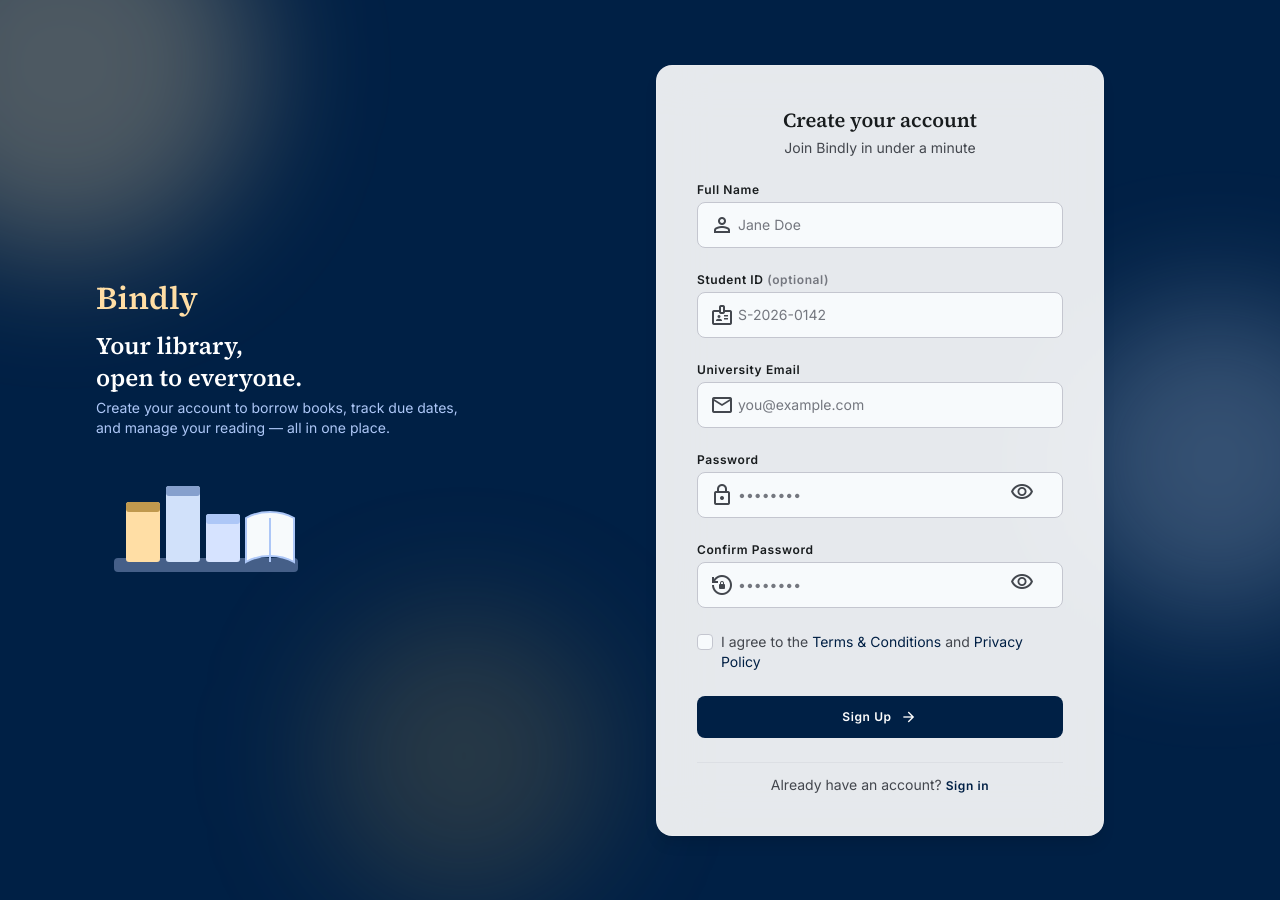
Scenario: Register - validation errors › flags mismatched passwords once the confirm field is touched
Type "Password1!" into the password field labelled "Password". click: (880, 494)
box: [698,472,1062,516]
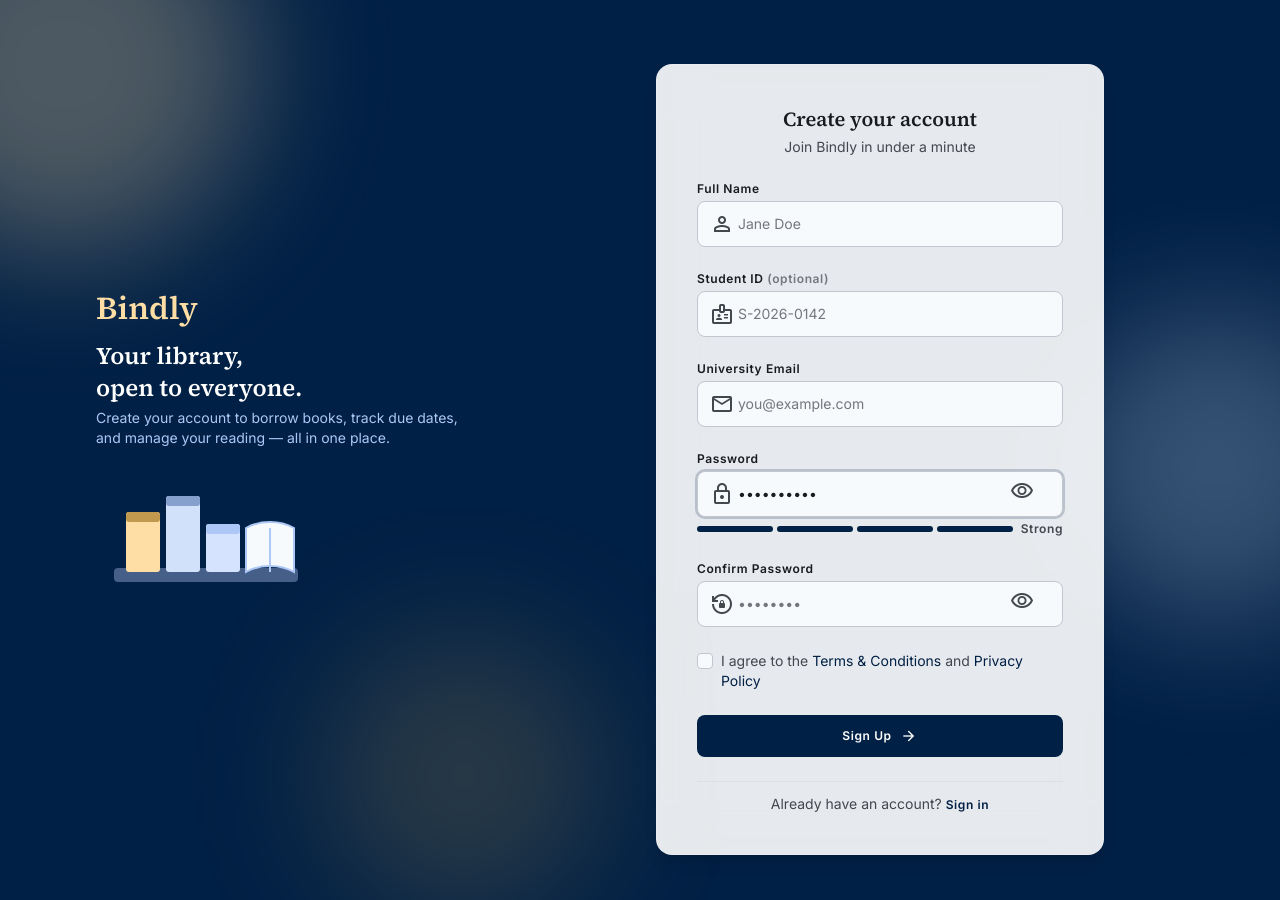
Type "Different1!" into the password field labelled "Confirm Password". click: (880, 604)
box: [698,582,1062,626]
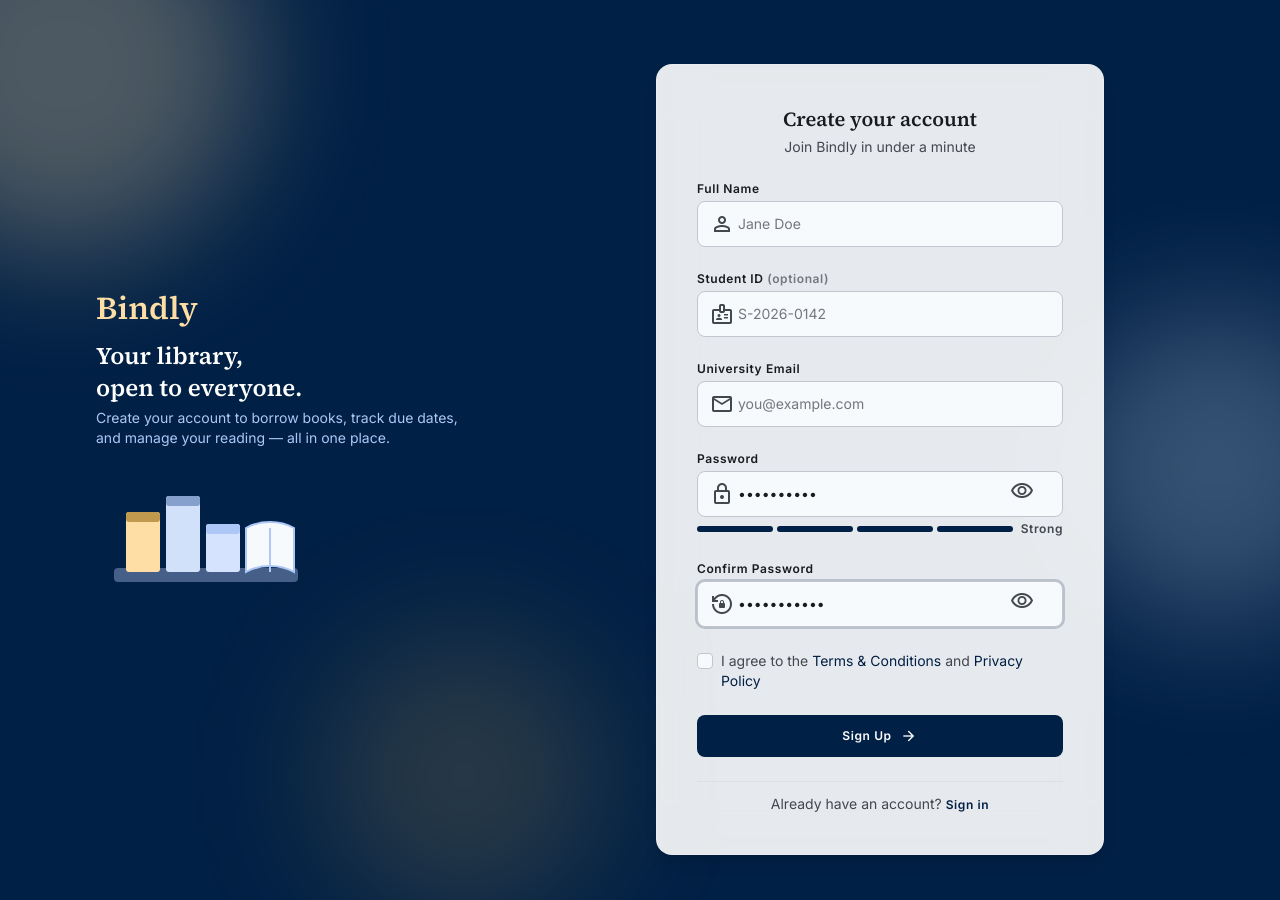
Press Tab
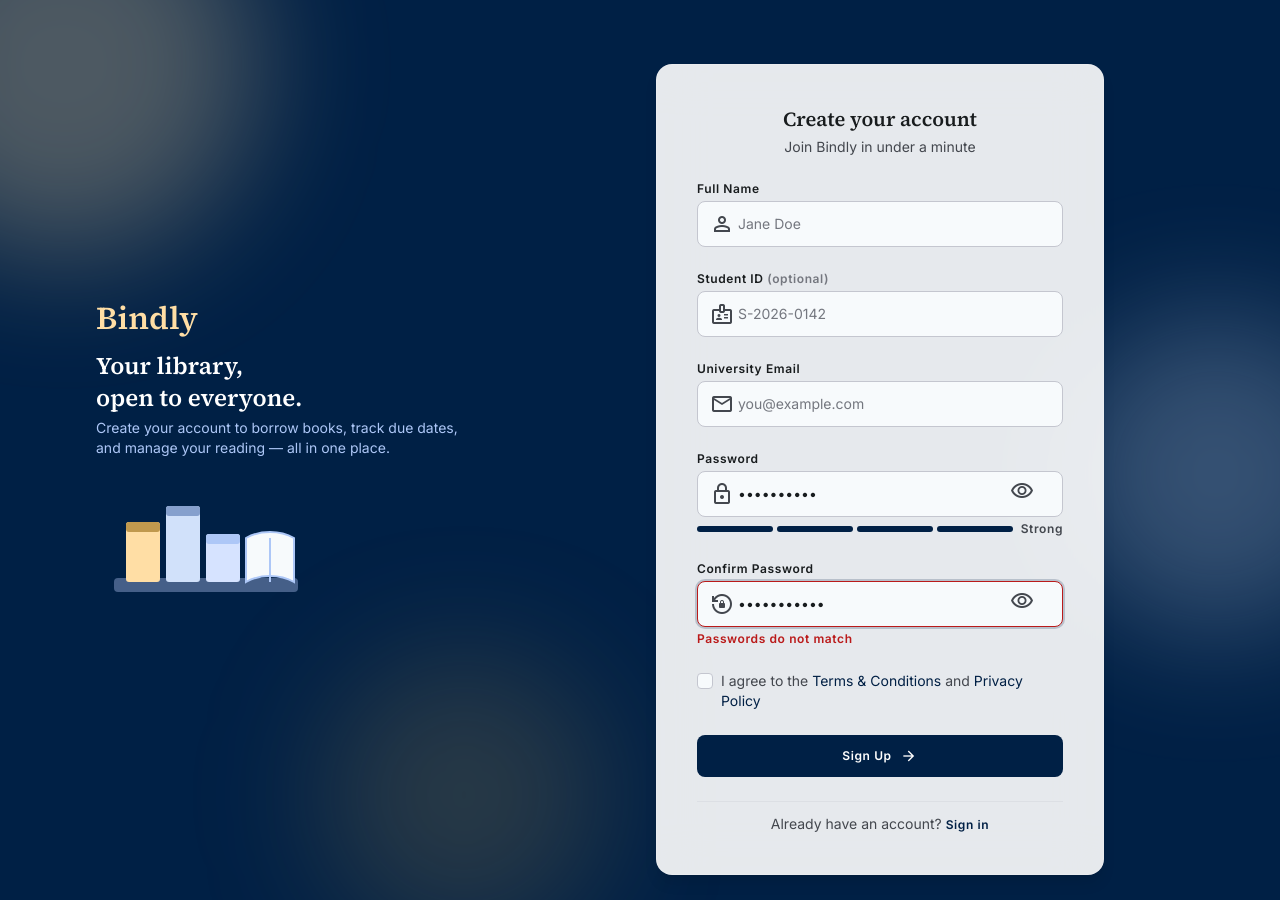
Expected: the text "Passwords do not match" is shown, [697,631,853,646]
